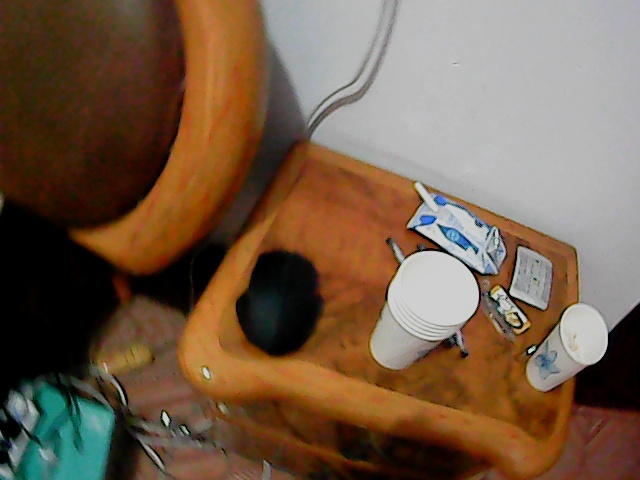cup: (371, 243, 477, 375)
mouse: (235, 246, 319, 358)
